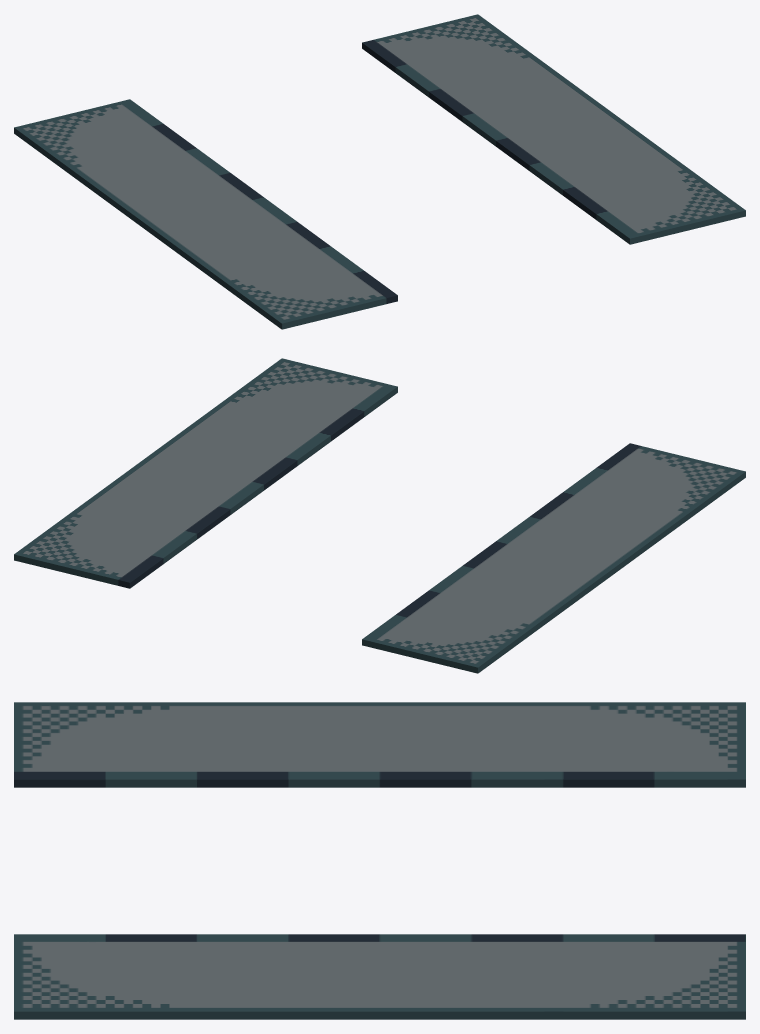
File: road_1_overtile.glb
3 renders of one model, top to bottom at view 1: azimuth 30°, elevation 25°; view 2: azimuth 150°, elevation 25°; view 3: azimuth 270°, elevation 25°, orthographic. The views are drawn at different scales.
Parts seen in each view (by area): view 1: road_1_overtile; view 2: road_1_overtile; view 3: road_1_overtile.
Part boxes in pixels (x1=…): road_1_overtile: x1=14, y1=14, x2=745, y2=329; road_1_overtile: x1=14, y1=358, x2=745, y2=673; road_1_overtile: x1=14, y1=702, x2=745, y2=1019.
Size of the model in its own units: 8 by 0.1 by 8.
Materials: 1 (1 with a texture image).
